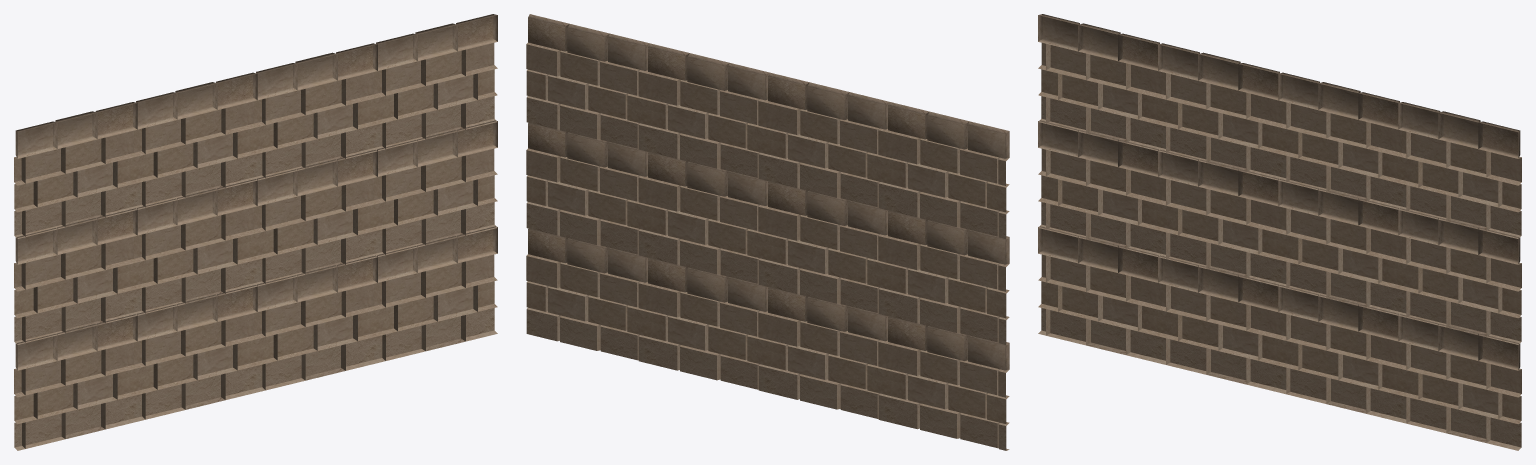
File: Wall.fbx
3 renders of one model, left to right at view 1: azimuth 30°, elevation 25°; view 2: azimuth 150°, elevation 25°; view 3: azimuth 330°, elevation 25°, orthographic.
Visible parts, largest first — view 1: M_Wall37_MedievalDiningRoom_FinalScene2:blinn6_0; view 2: M_Wall37_MedievalDiningRoom_FinalScene2:blinn6_0; view 3: M_Wall37_MedievalDiningRoom_FinalScene2:blinn6_0.
Part boxes in pixels (x1,y1,x2,y2): M_Wall37_MedievalDiningRoom_FinalScene2:blinn6_0: (14, 14, 497, 450); M_Wall37_MedievalDiningRoom_FinalScene2:blinn6_0: (526, 14, 1009, 450); M_Wall37_MedievalDiningRoom_FinalScene2:blinn6_0: (1038, 14, 1521, 450).
Size of the model in its own units: 146 by 92.47 by 2.01.
Materials: 1 (1 with a texture image).
